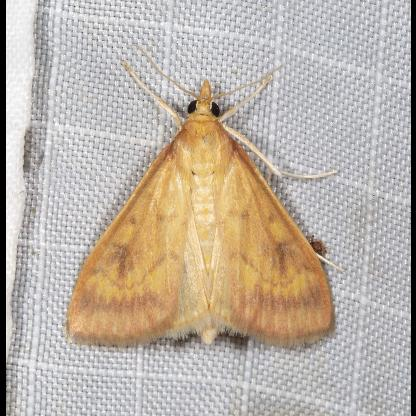Asian Corn Borer Moth: (60, 41, 348, 352)
